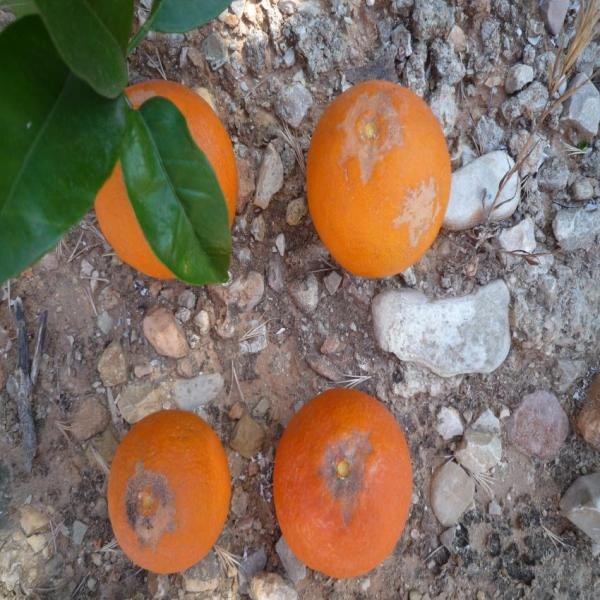Sana: (88, 74, 251, 297)
Trips: (296, 70, 458, 285), (268, 386, 416, 584), (100, 400, 240, 579)
